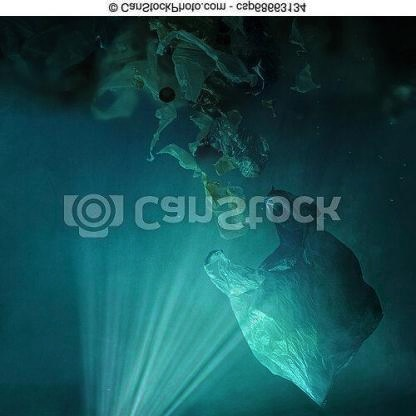pbag: (83, 18, 322, 238), (204, 186, 384, 406)
